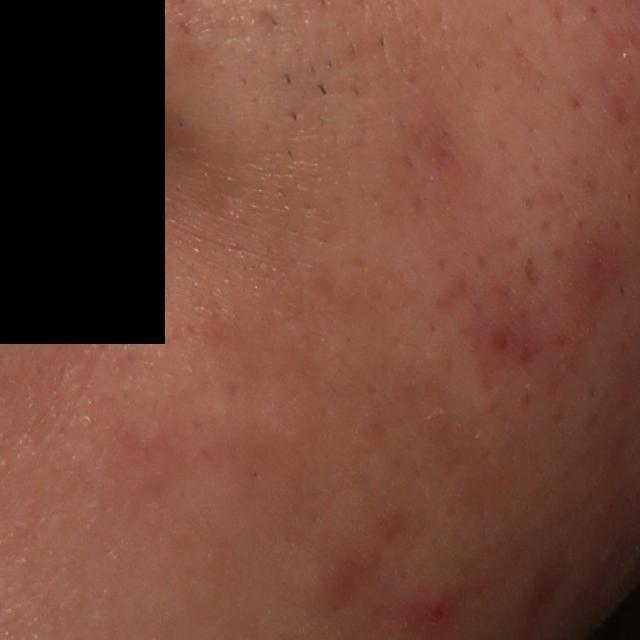papule: (410, 594, 454, 635)
